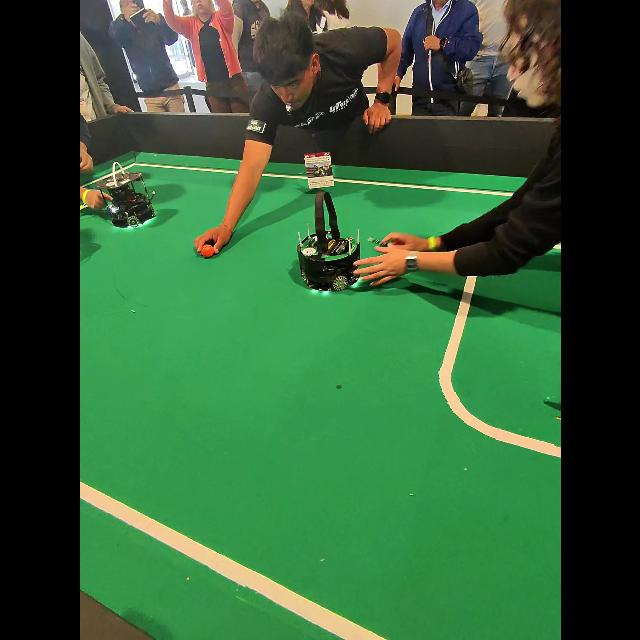ball: (200, 245, 213, 257)
robot: (295, 190, 359, 291), (97, 163, 154, 228)
